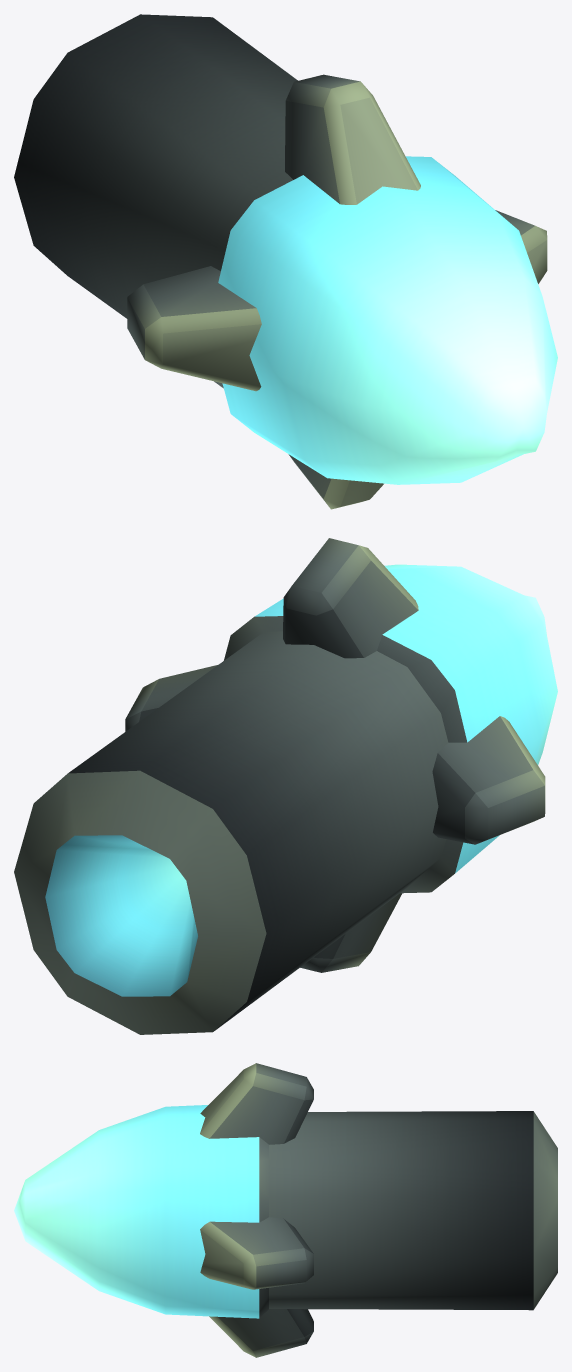
Rendered from matt-rockets-projectile.glb.
3 views of the same model, one above another, from view 1: azimuth 30°, elevation 25°; view 2: azimuth 150°, elevation 25°; view 3: azimuth 270°, elevation 25° (orthographic). The views are drawn at different scales.
Parts seen in each view (by area): view 1: turret_rocketlauncher_rocket; view 2: turret_rocketlauncher_rocket; view 3: turret_rocketlauncher_rocket.
Part boxes in pixels (bbox=[...]): turret_rocketlauncher_rocket: bbox=[14, 14, 557, 509]; turret_rocketlauncher_rocket: bbox=[14, 538, 557, 1034]; turret_rocketlauncher_rocket: bbox=[14, 1063, 557, 1357].
Size of the model in its own units: 0.8022 by 0.8022 by 1.39.
1 material, 1 textured.
